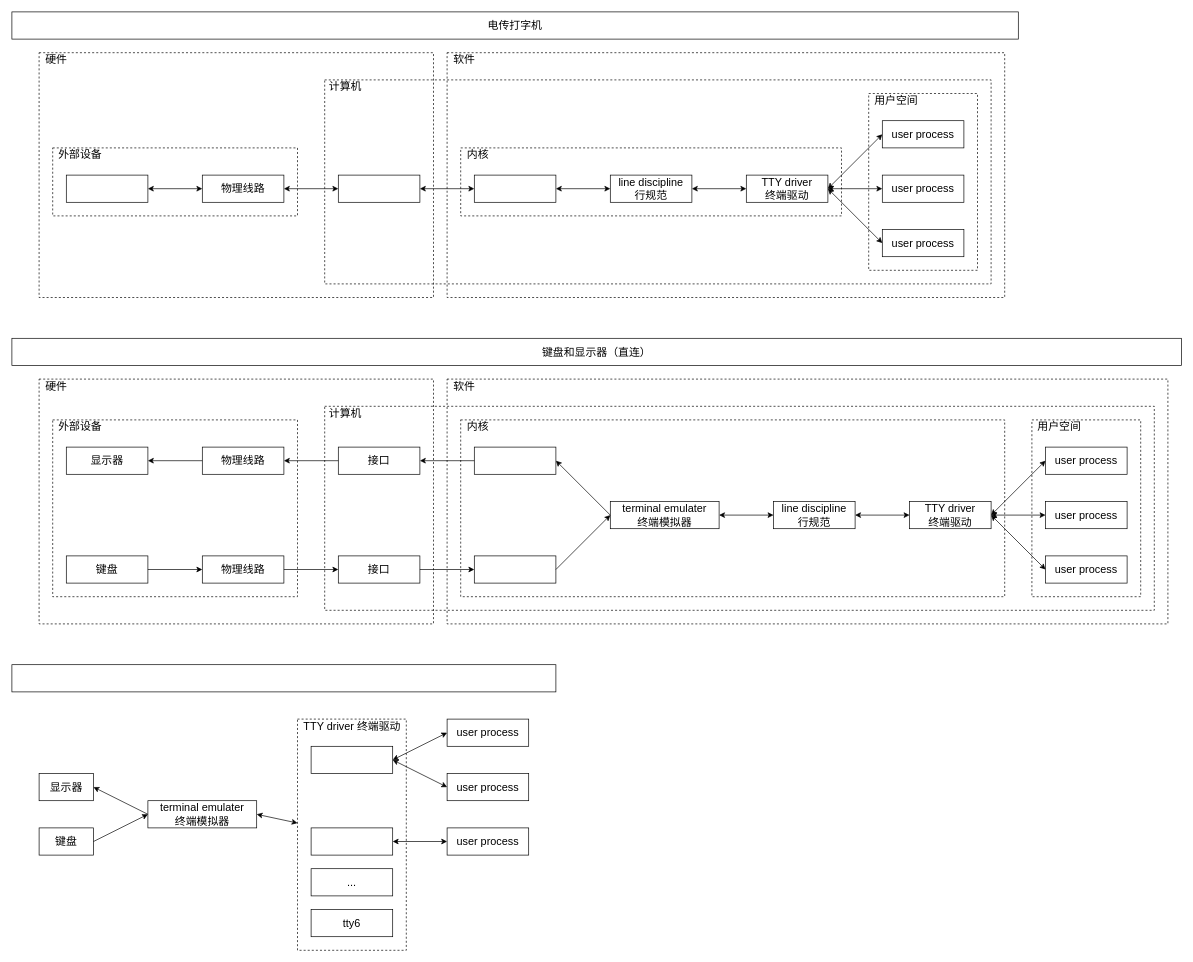
This 1193x962 diagram has some shape labels left out. Here are the shapes that lost their labels. From the top down, the centre of each, then its label:
At point (107, 188): "终端".
At point (379, 188): "URAT 接口".
At point (515, 188): "URAT driver URAT 驱动".
At point (515, 460): "显示器驱动".
At point (515, 569): "键盘驱动".
At point (283, 678): "tty1 ~ tty6".
At point (351, 760): "tty1".
At point (351, 841): "tty2".
